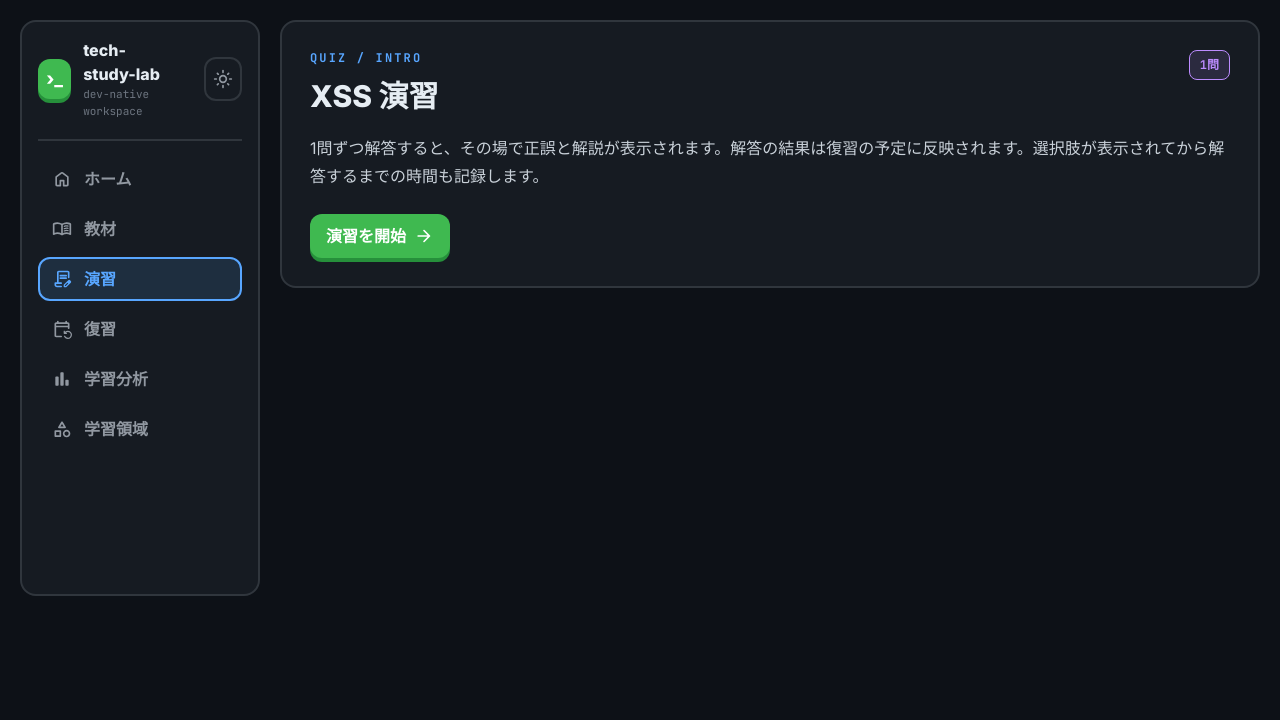
Test: AppShell › does not invalidate the streak when recording an answer fails
The width and height of the screenshot is (1280, 720).
Click the button "演習を開始" at (380, 236), box [310,214,450,258]
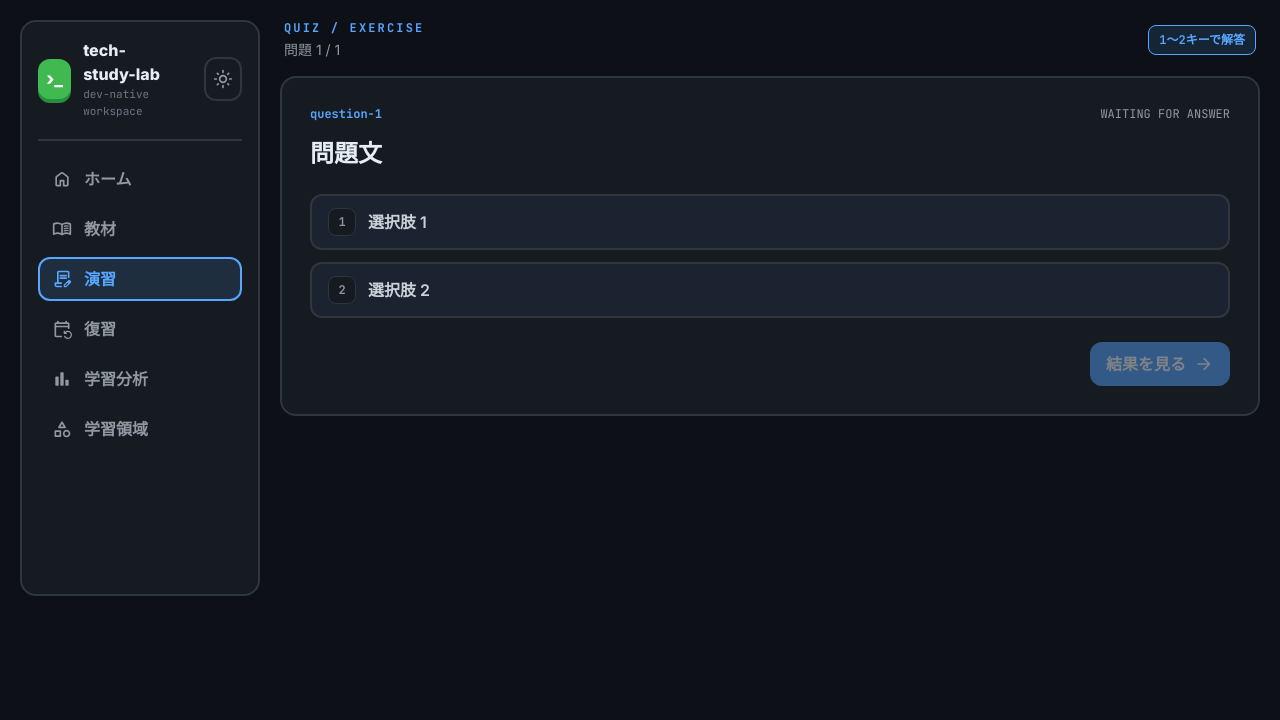
Click the button with aria-label "1番 選択肢 1" at (397, 222), box [310,194,1230,250]
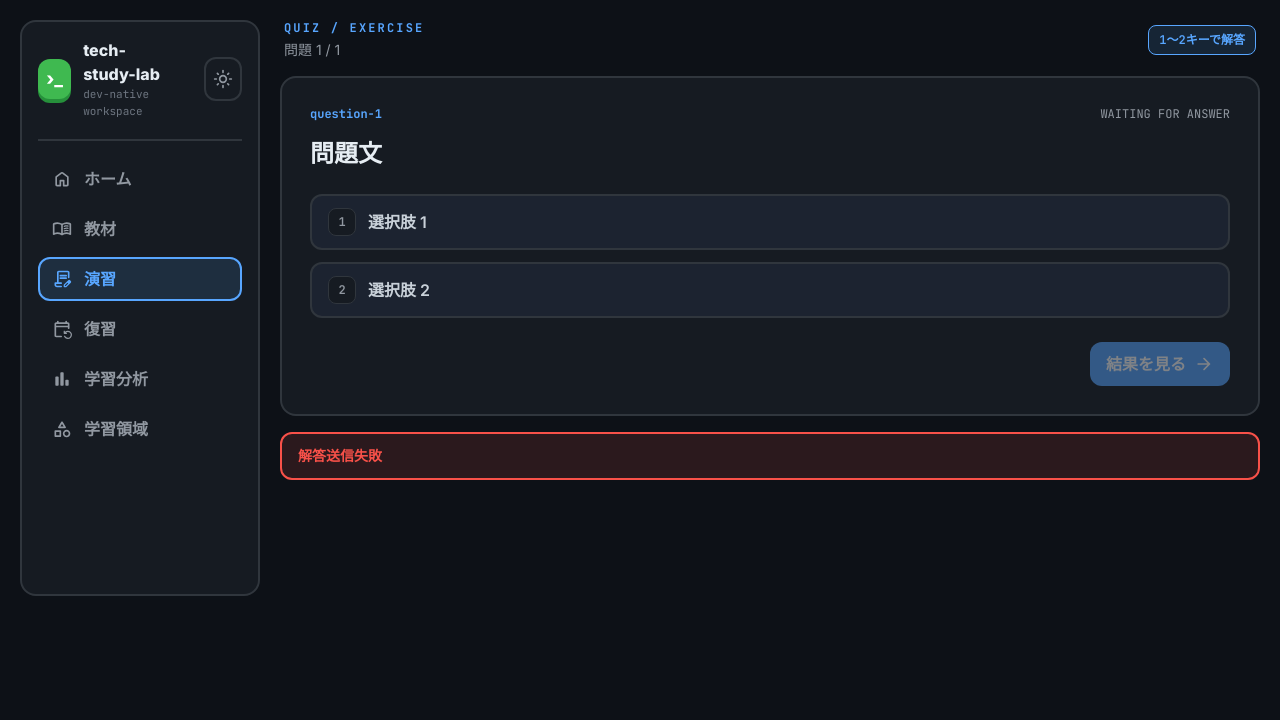
Check: the text "解答送信失敗" is shown, box [280,432,1260,480]
